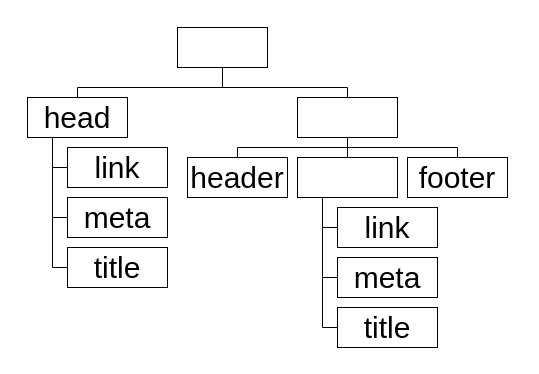
Image size: 539x374. Some labels were removed from this diagram. The centre of each missing label's shape, as x and y in pixels:
"body" goes at pixel 347 117.
"html" goes at pixel 222 47.
"section" goes at pixel 347 177.
